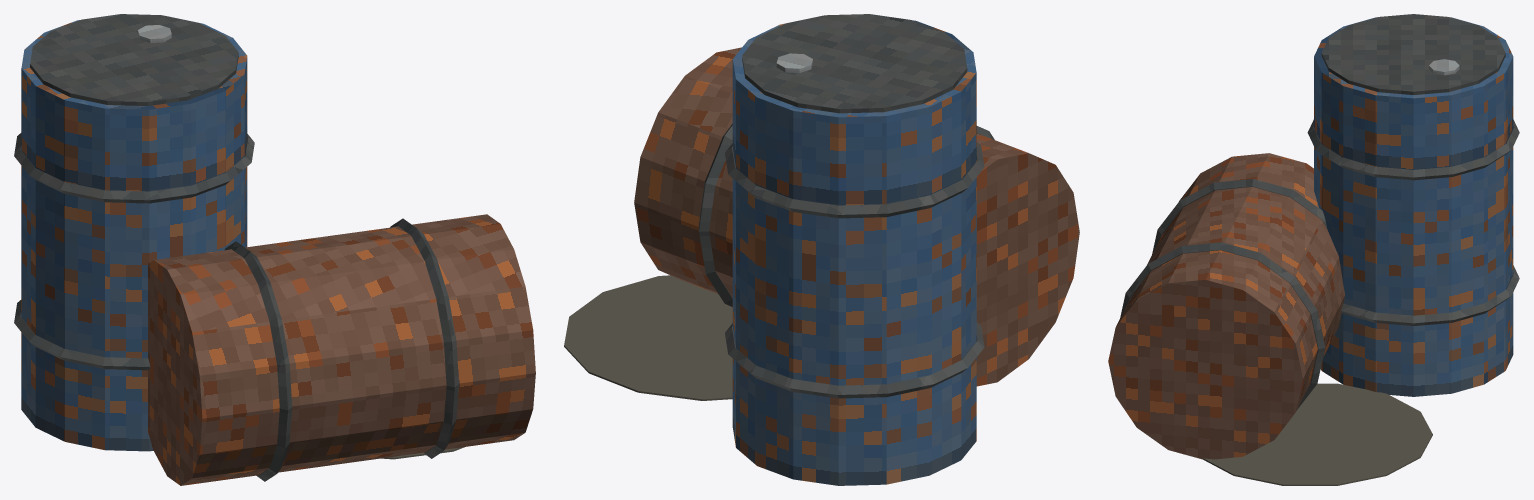
Rendered from barrels.glb.
The picture shows the model from 3 angles, left to right: view 1: azimuth 30°, elevation 25°; view 2: azimuth 150°, elevation 25°; view 3: azimuth 270°, elevation 25°; orthographic projection. The views are drawn at different scales.
Visible parts, largest first — view 1: body; view 2: body; view 3: body.
Boxes of the visible parts, x1,y1,x2,y2 form: body: (14, 14, 535, 485); body: (564, 14, 1079, 485); body: (1108, 14, 1519, 485).
Size of the model in its own units: 1.09 by 0.897 by 1.07.
5 materials, 4 textured.
